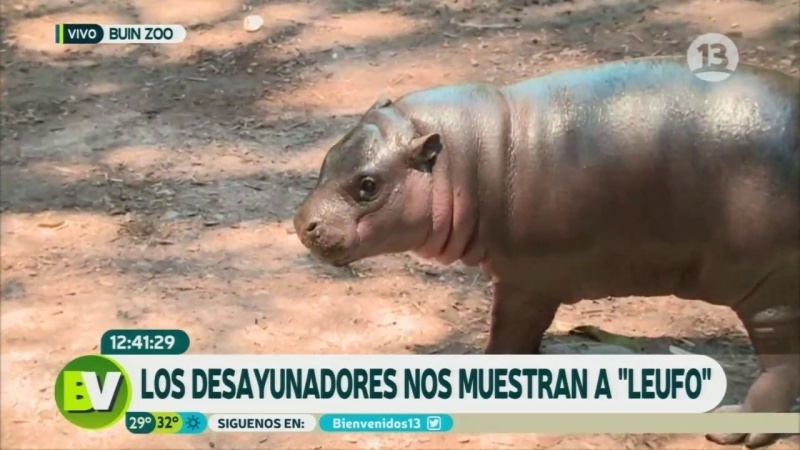hipopotamo: (281, 43, 800, 353)
